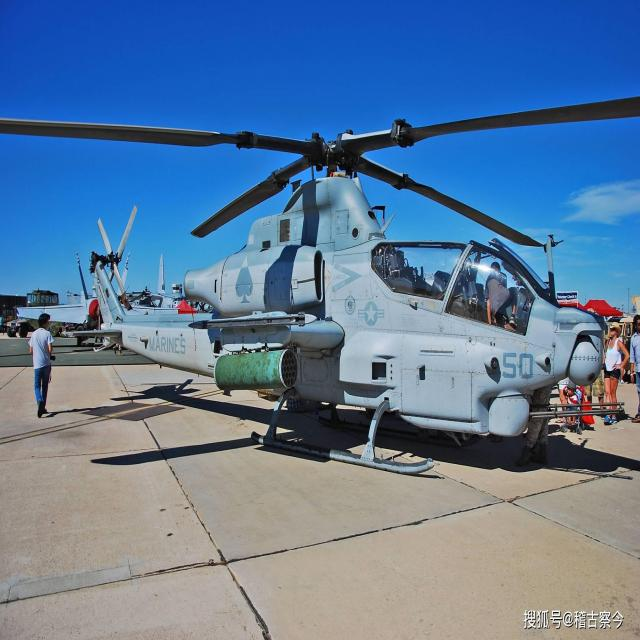MIL_HELO: (0, 87, 640, 482)
